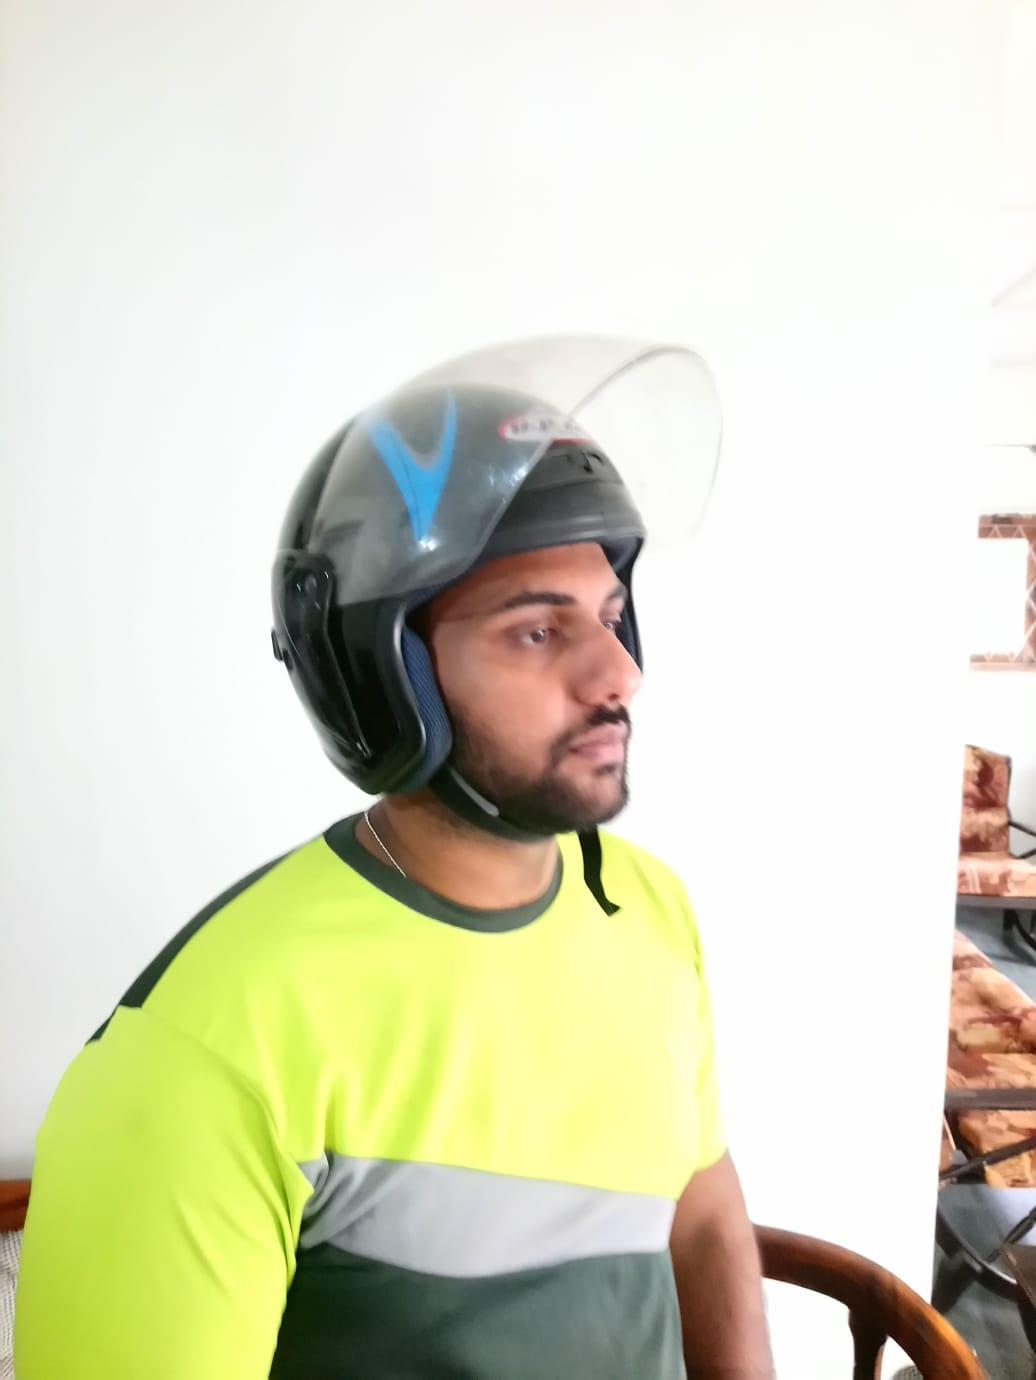helmet: (270, 335, 730, 808)
